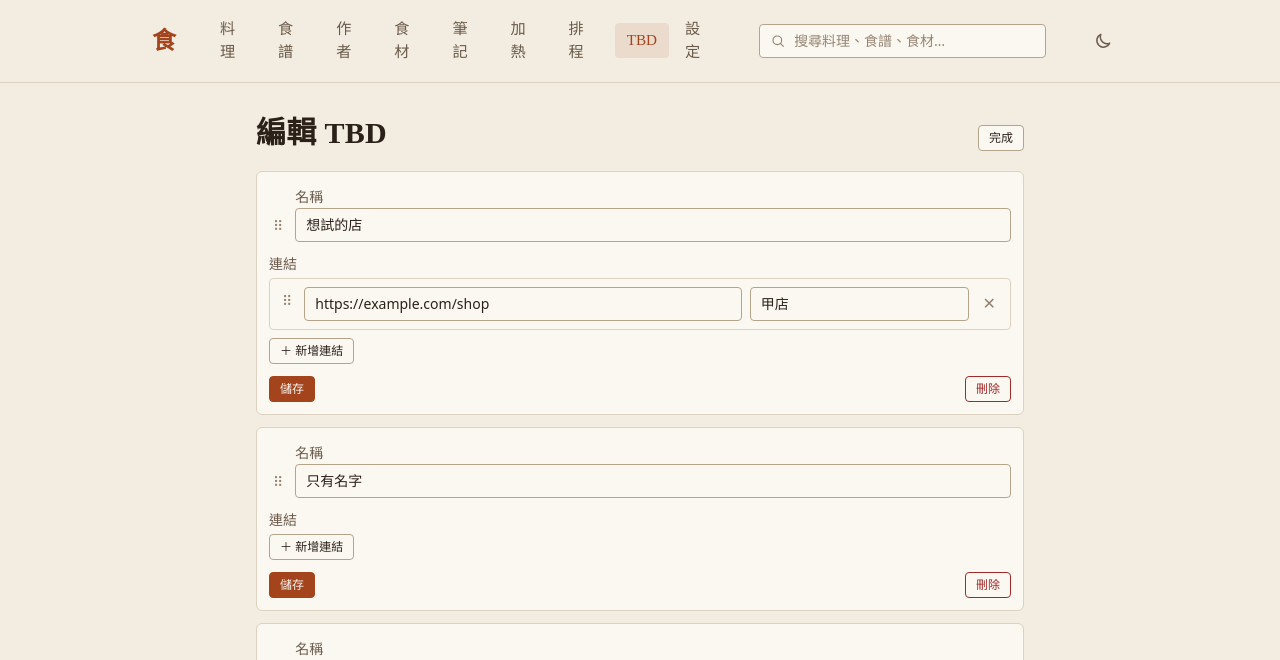
the TBD edit page › shows the server's sentence when a save is refused
The image size is (1280, 660).
Click the 1st button "儲存": x=292, y=389 [269,376,315,402]
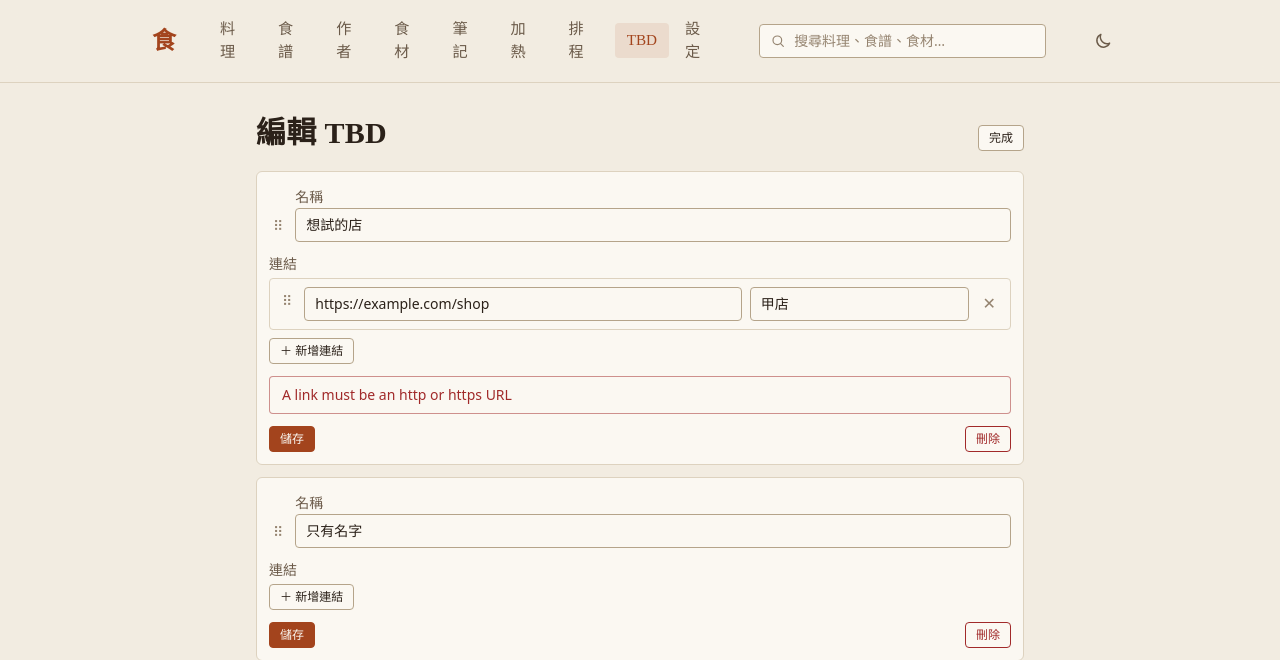
Check: the message reads "A link must be an http or https URL", box [282,385,512,404]
